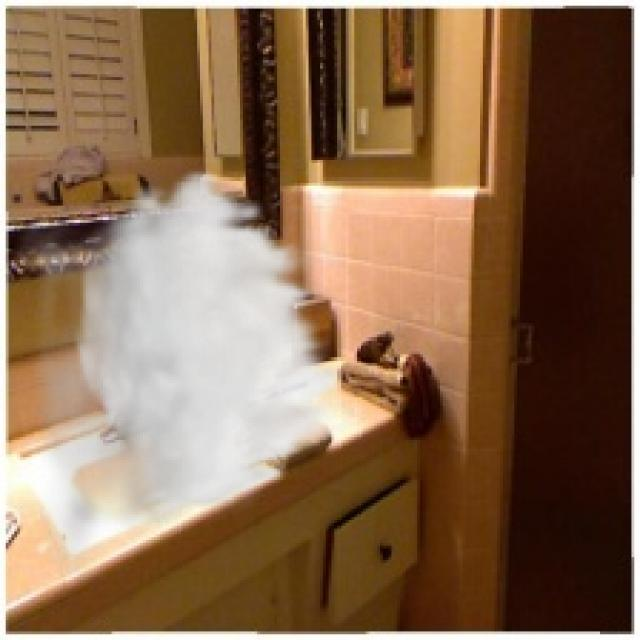Smoke: (9, 166, 352, 583)
